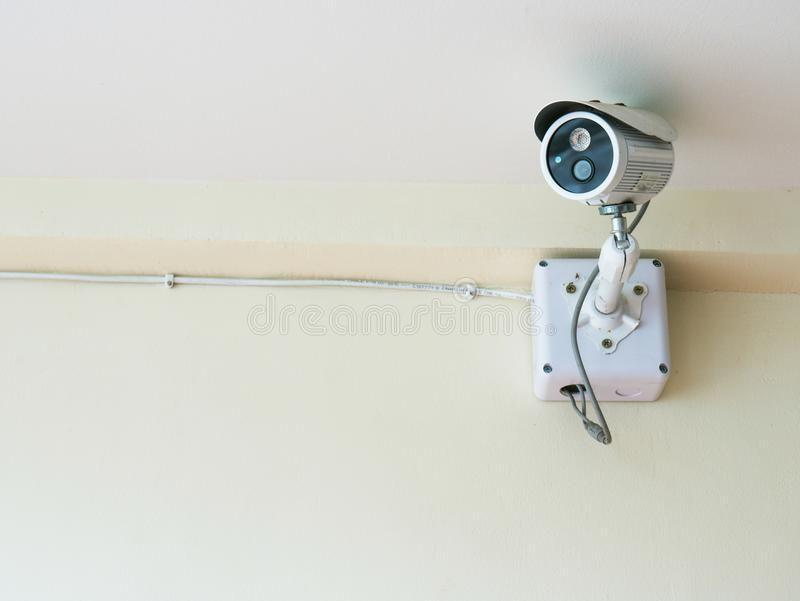CCTV: (536, 103, 675, 443)
